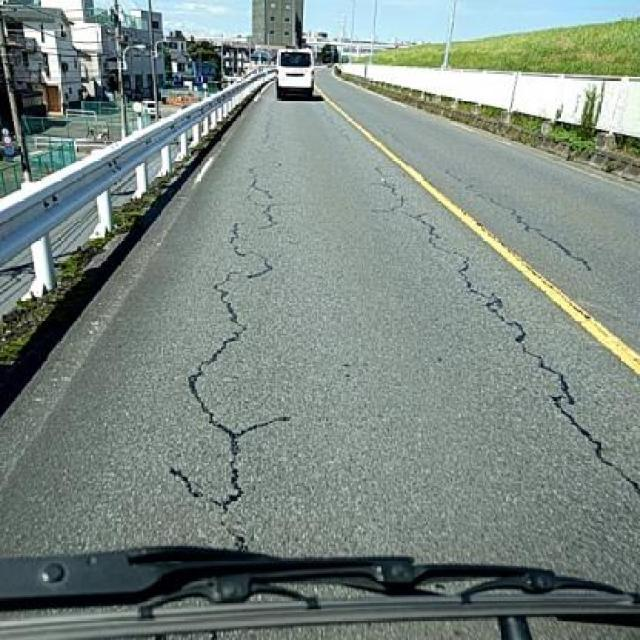Guard rail: (0, 62, 273, 345), (342, 66, 639, 138)
